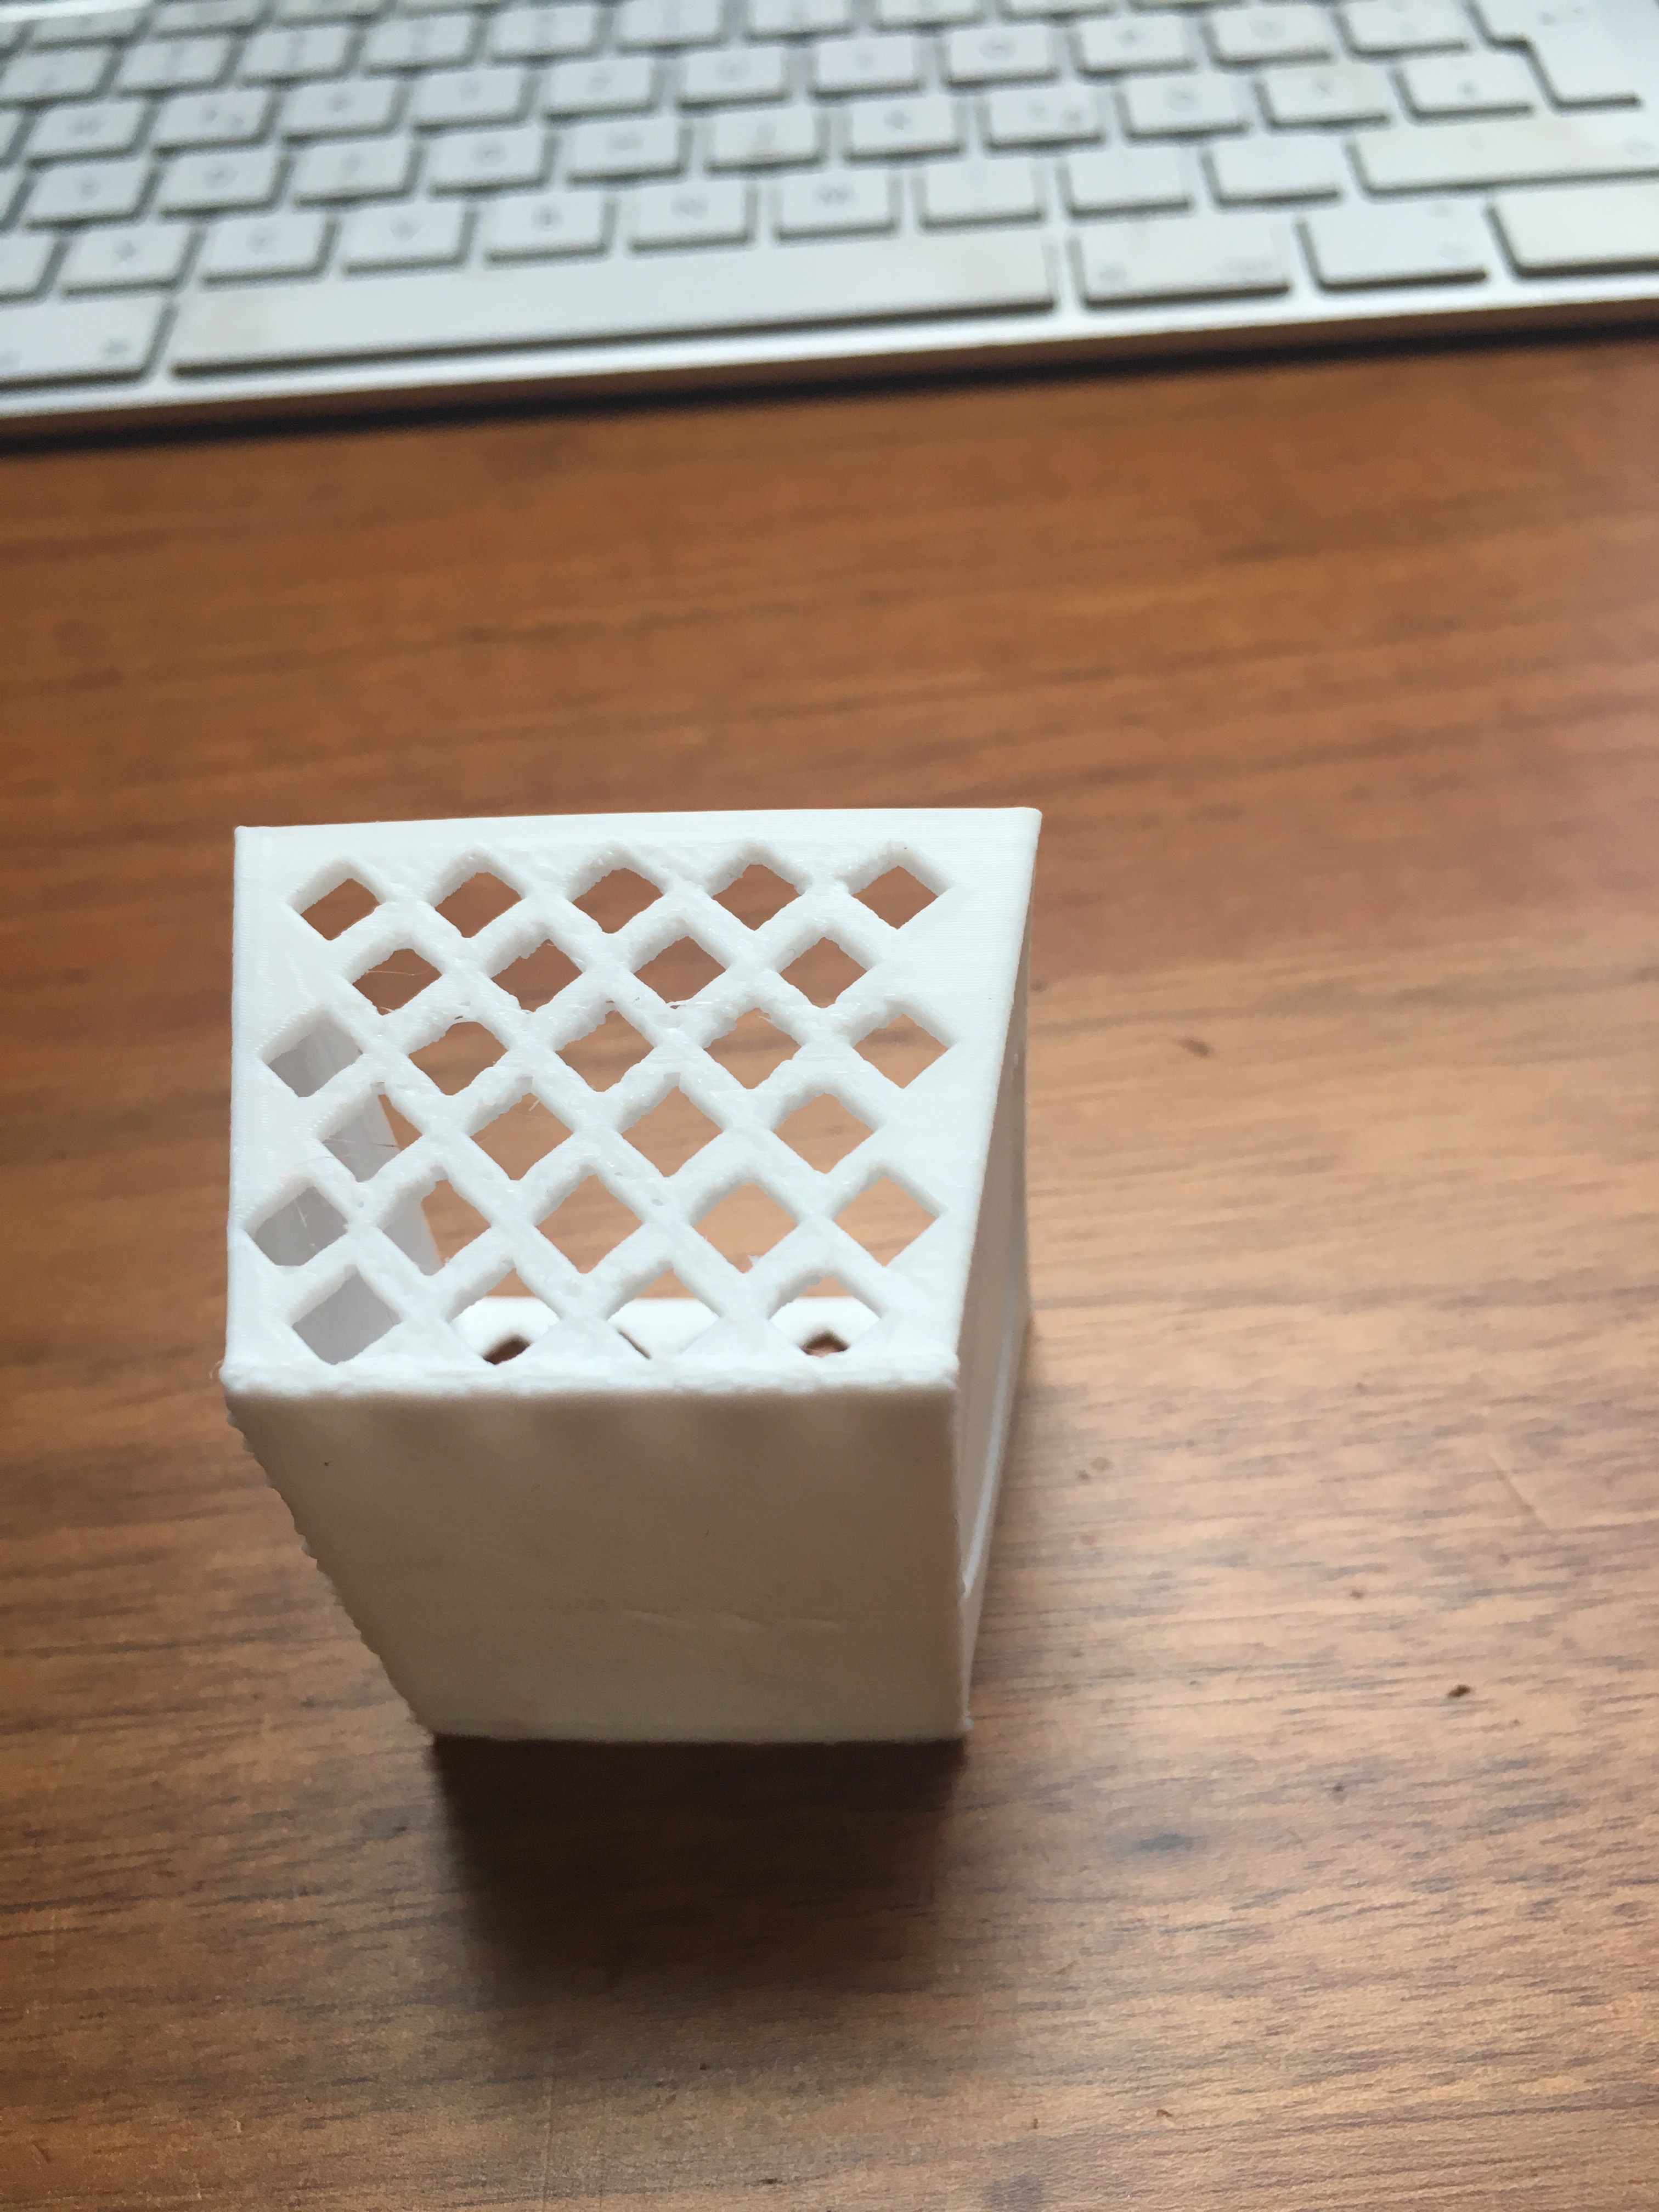3dpstringing: (641, 968, 711, 1035), (441, 1000, 498, 1040), (720, 1242, 782, 1277)
